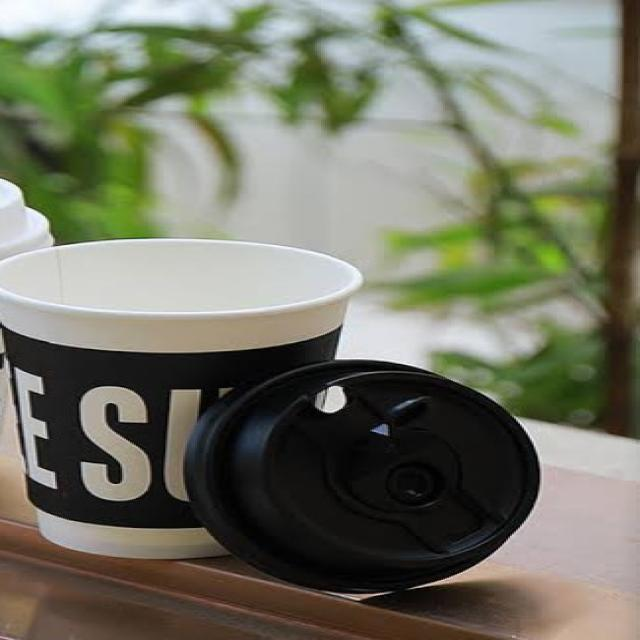paper cup: (1, 214, 338, 565)
